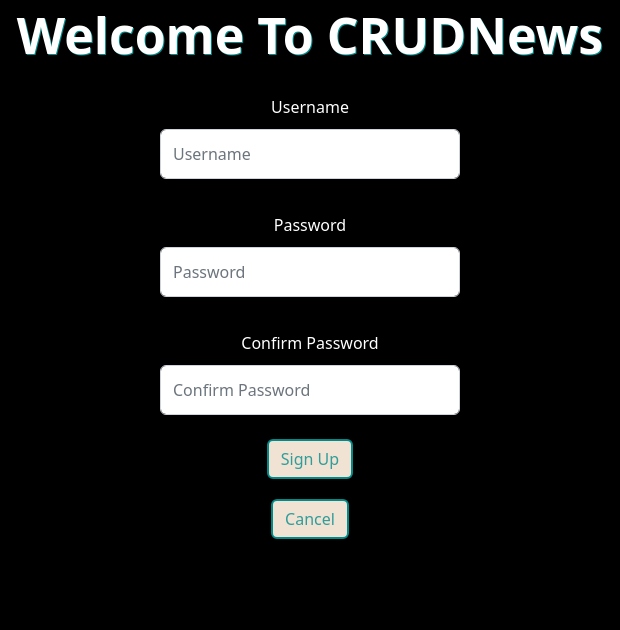
it: SignUpPage › shows an error when the password is invalid
Type "user1" into the field labelled "Username" at (310, 154), box [160,129,460,179]
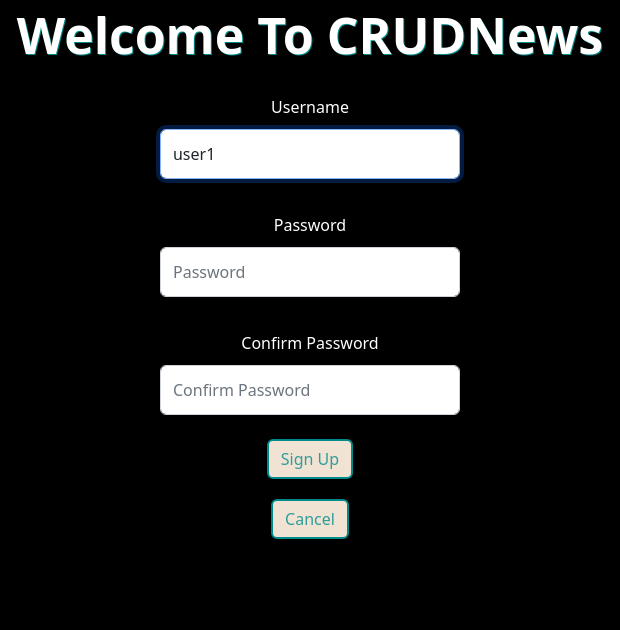
Type "password" into the password field labelled "Password" at (310, 272), box [160,247,460,297]
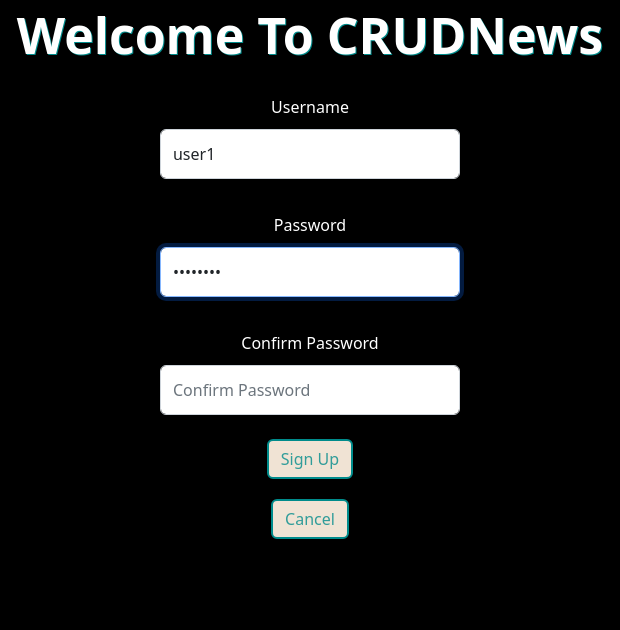
Type "password" into the password field labelled "Confirm Password" at (310, 390), box [160,365,460,415]
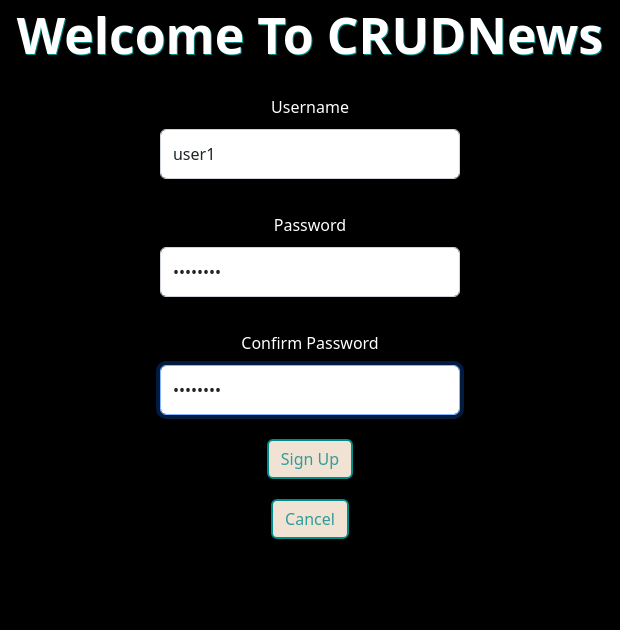
Click the button "Sign Up" at (310, 459), box [267,439,353,479]
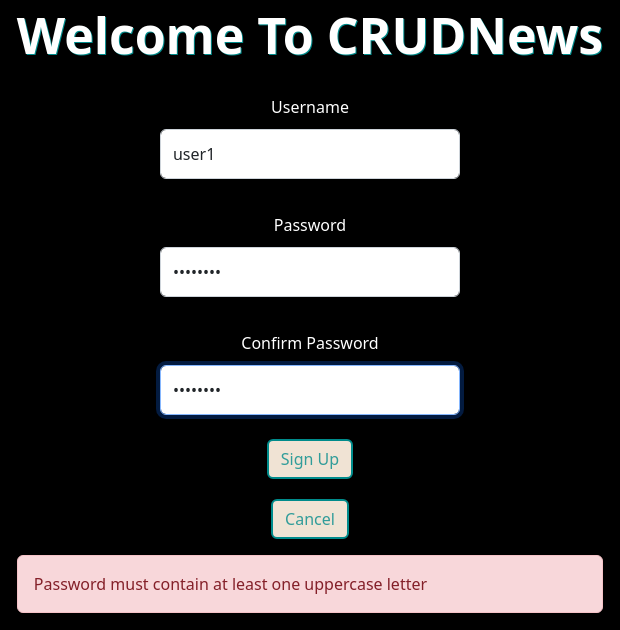
Expected: the text "Password must contain at least one uppercase letter" is shown, [17,555,603,613]
